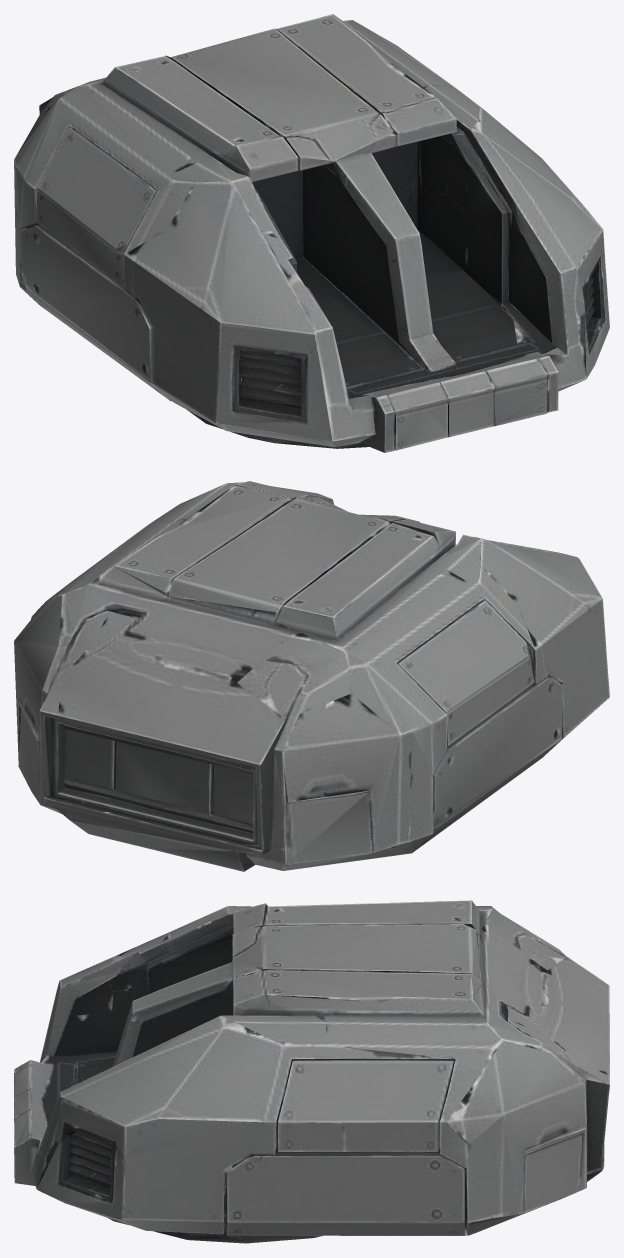
The model's file is shared_flak_tower_compact_option__turret_head_lod1.glb.
3 renders of one model, top to bottom at view 1: azimuth 30°, elevation 25°; view 2: azimuth 150°, elevation 25°; view 3: azimuth 270°, elevation 25°, orthographic. The views are drawn at different scales.
Parts seen in each view (by area): view 1: mesh_node; view 2: mesh_node; view 3: mesh_node.
Part boxes in pixels (left/top/right/bottom): mesh_node: left=14, top=14, right=609, bottom=452; mesh_node: left=14, top=481, right=609, bottom=871; mesh_node: left=14, top=900, right=609, bottom=1243.
Size of the model in its own units: 3.44 by 1.87 by 4.63.
Materials: 1 (1 with a texture image).
